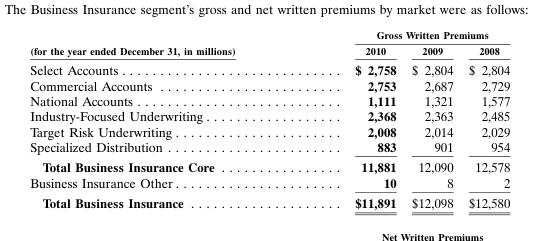table: (29, 28, 509, 210)
table column: (29, 28, 294, 210), (294, 28, 403, 210), (403, 28, 460, 210), (460, 28, 509, 210)
table column header: (29, 28, 509, 59)
table row: (29, 59, 509, 77), (29, 138, 509, 156), (29, 156, 509, 174), (29, 174, 509, 192), (29, 192, 509, 210), (29, 42, 509, 59), (29, 92, 509, 108), (29, 77, 509, 92), (29, 108, 509, 123), (29, 123, 509, 138), (29, 28, 509, 42)
table spanning cell: (29, 28, 294, 59), (294, 28, 509, 42)
